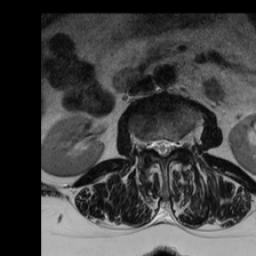CCS_normal: (160, 132, 166, 161)
LFS_normal: (174, 131, 182, 153)
LLS_normal: (166, 133, 173, 159)
RFS_normal: (142, 133, 152, 156)
RLS_normal: (152, 133, 160, 158)
